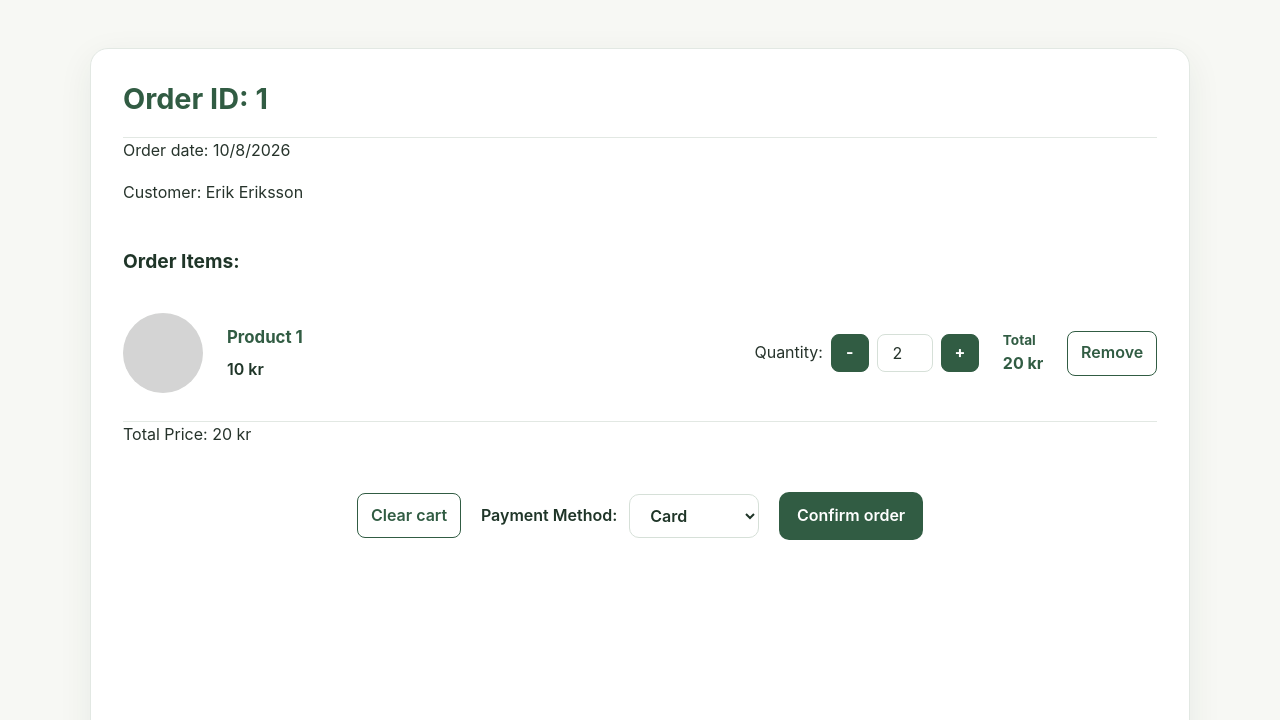
Scenario: Order › increase and decrease quantity
Click the button "+" at (960, 353), box [941,334,979,372]
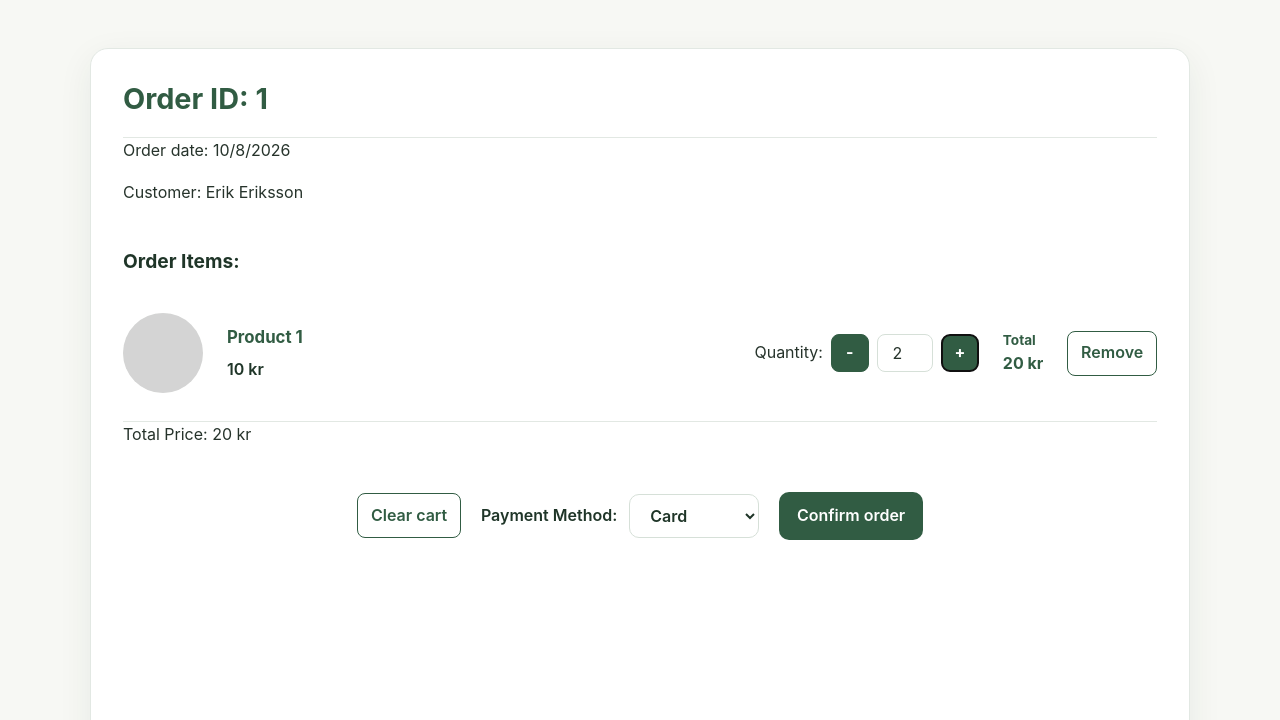
Click the button "-" at (850, 353), box [831,334,869,372]
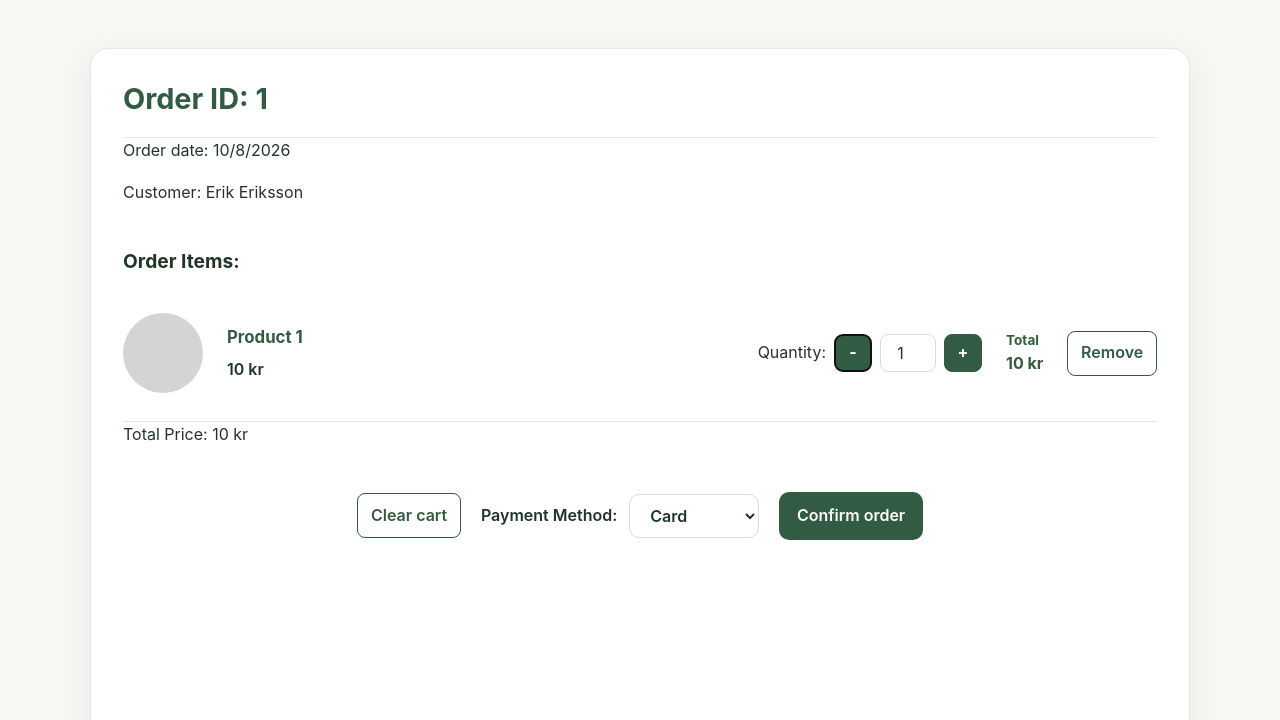
Now the number field holds "1", box [880,334,936,372]
